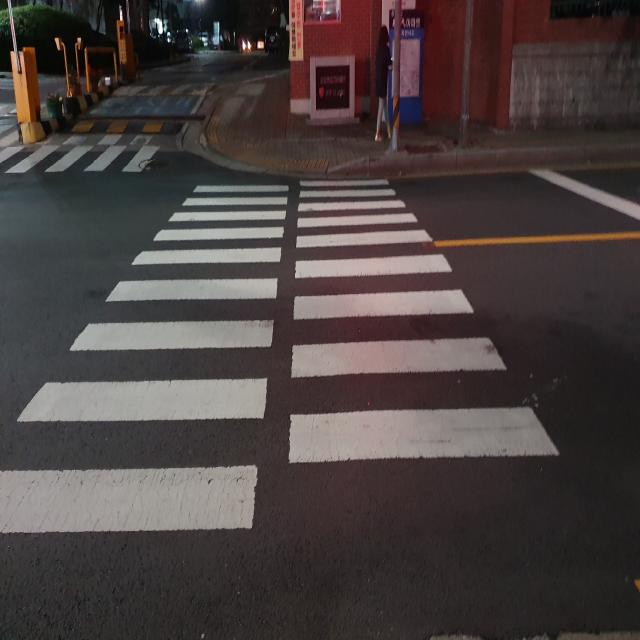횡단보도: (0, 175, 563, 538), (0, 123, 166, 174)
